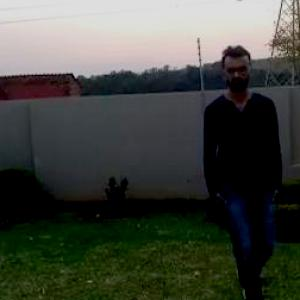follow: (198, 38, 280, 299)
